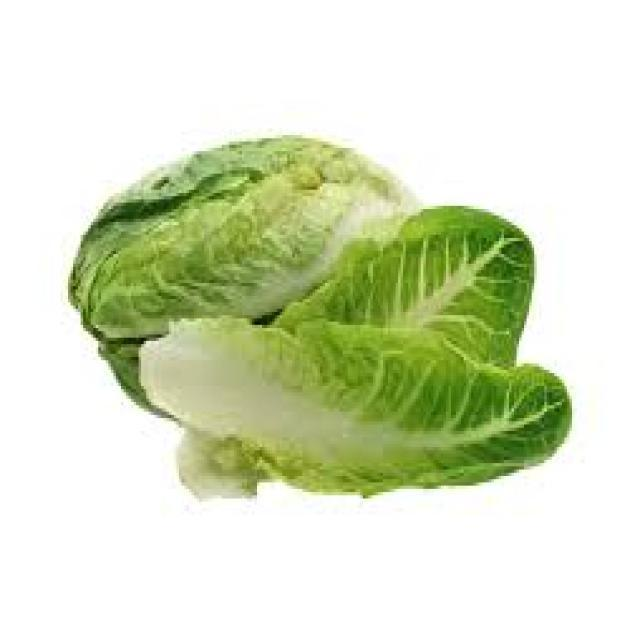Lettuce: (65, 132, 573, 500)
